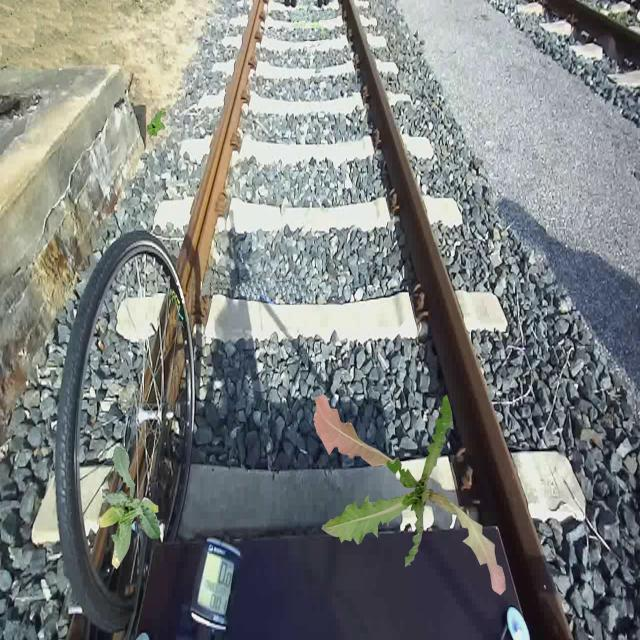Plant: (313, 393, 506, 596), (99, 445, 162, 570), (147, 107, 167, 140)
